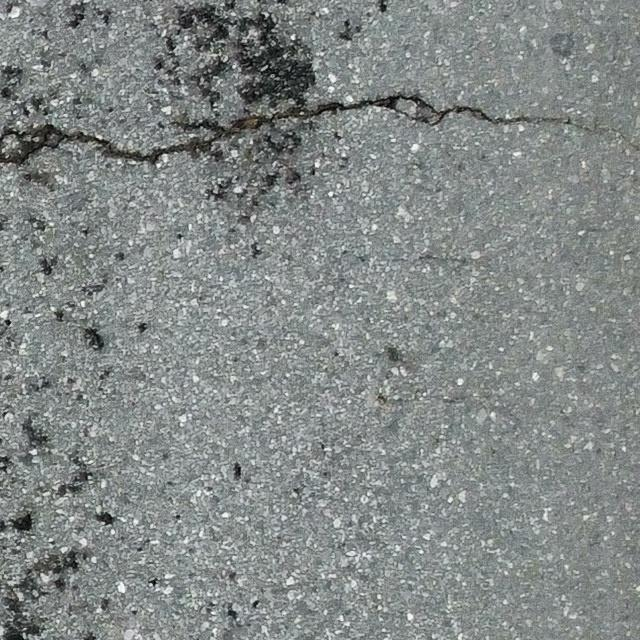TransverseCrack: (1, 90, 640, 166)
